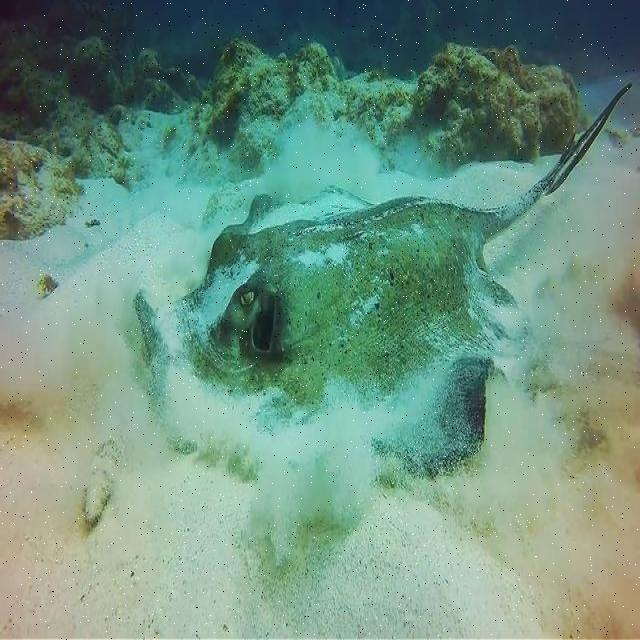fish: (135, 77, 632, 479)
